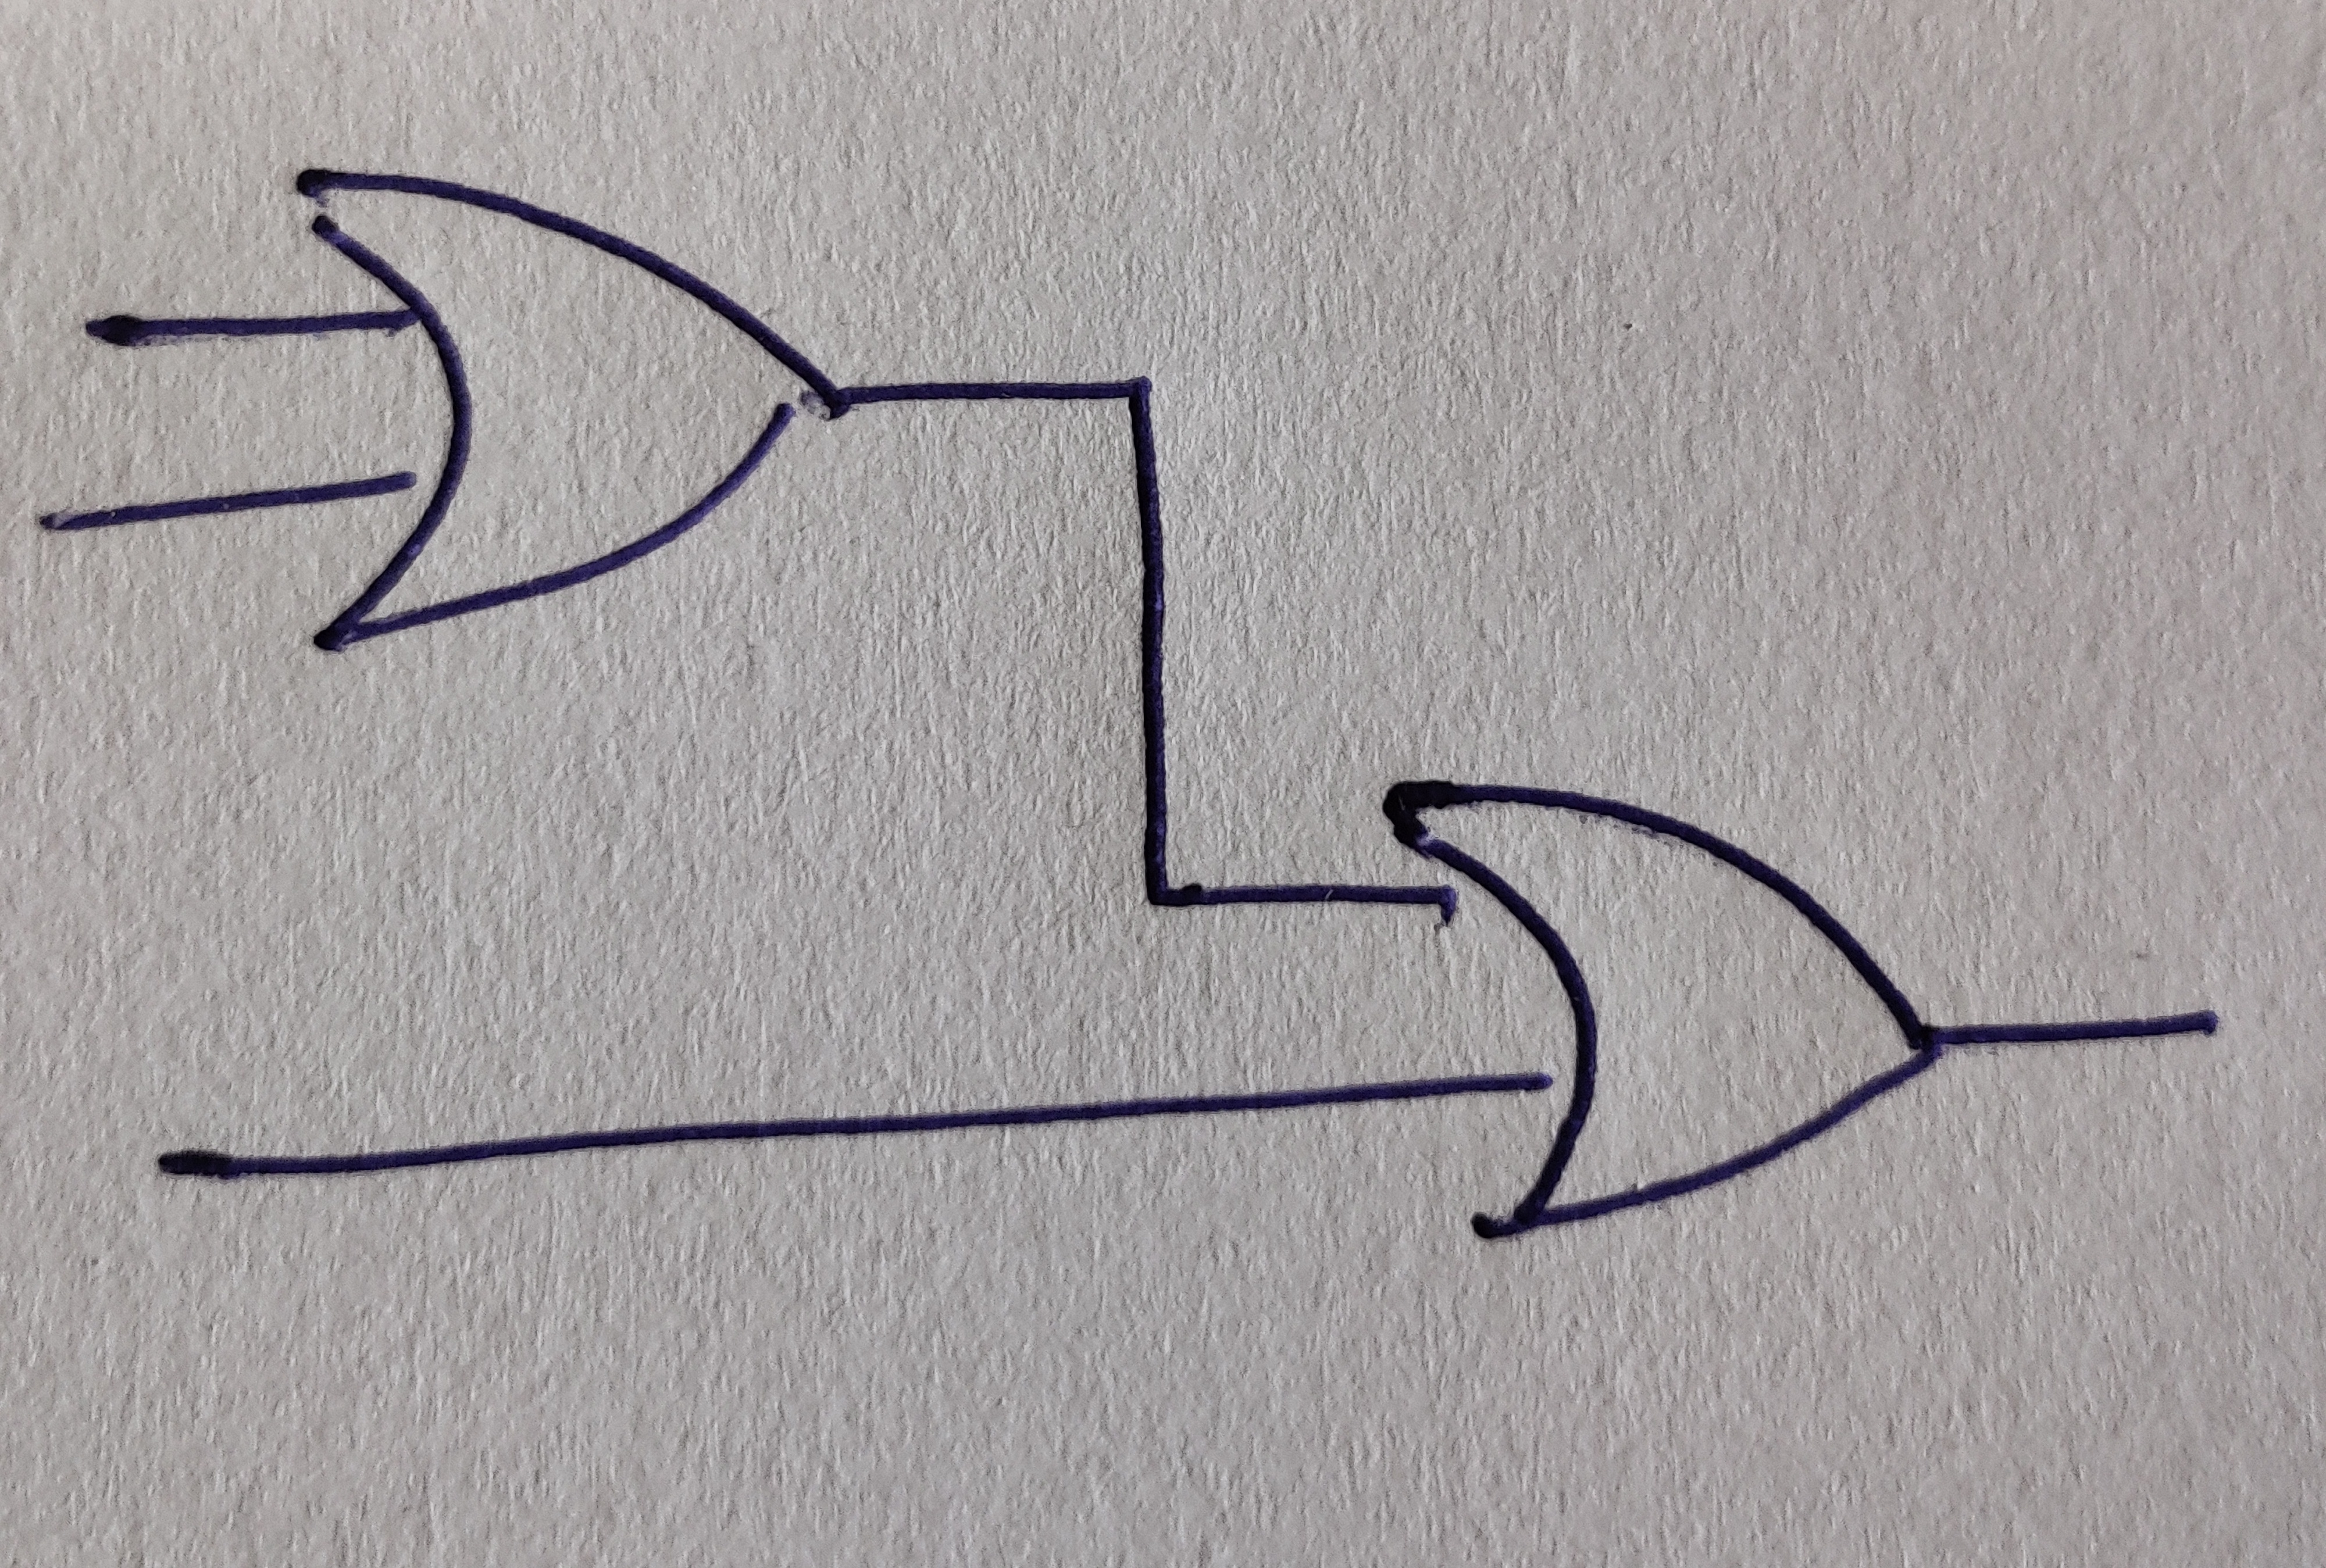or: (296, 168, 851, 654), (1381, 782, 1943, 1243)
